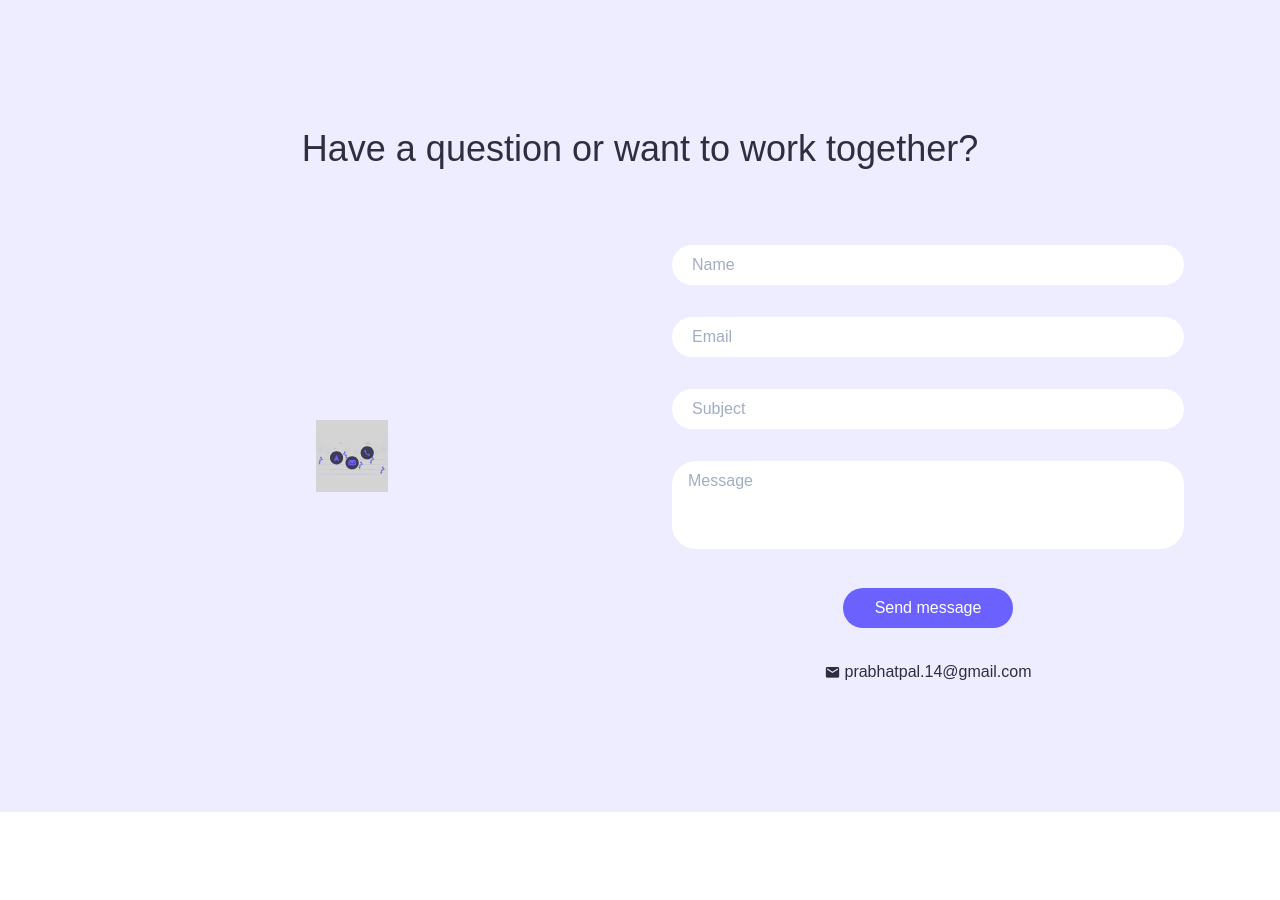
Contact Component › should show thank you message on successful for submission
expect the button "Send message" is shown: met, box top-left (843, 588), bottom-right (1013, 628)
Type "Test Guy" into the field with placeholder "Name". click: coordinates (928, 265)
box: top-left (672, 245), bottom-right (1184, 285)
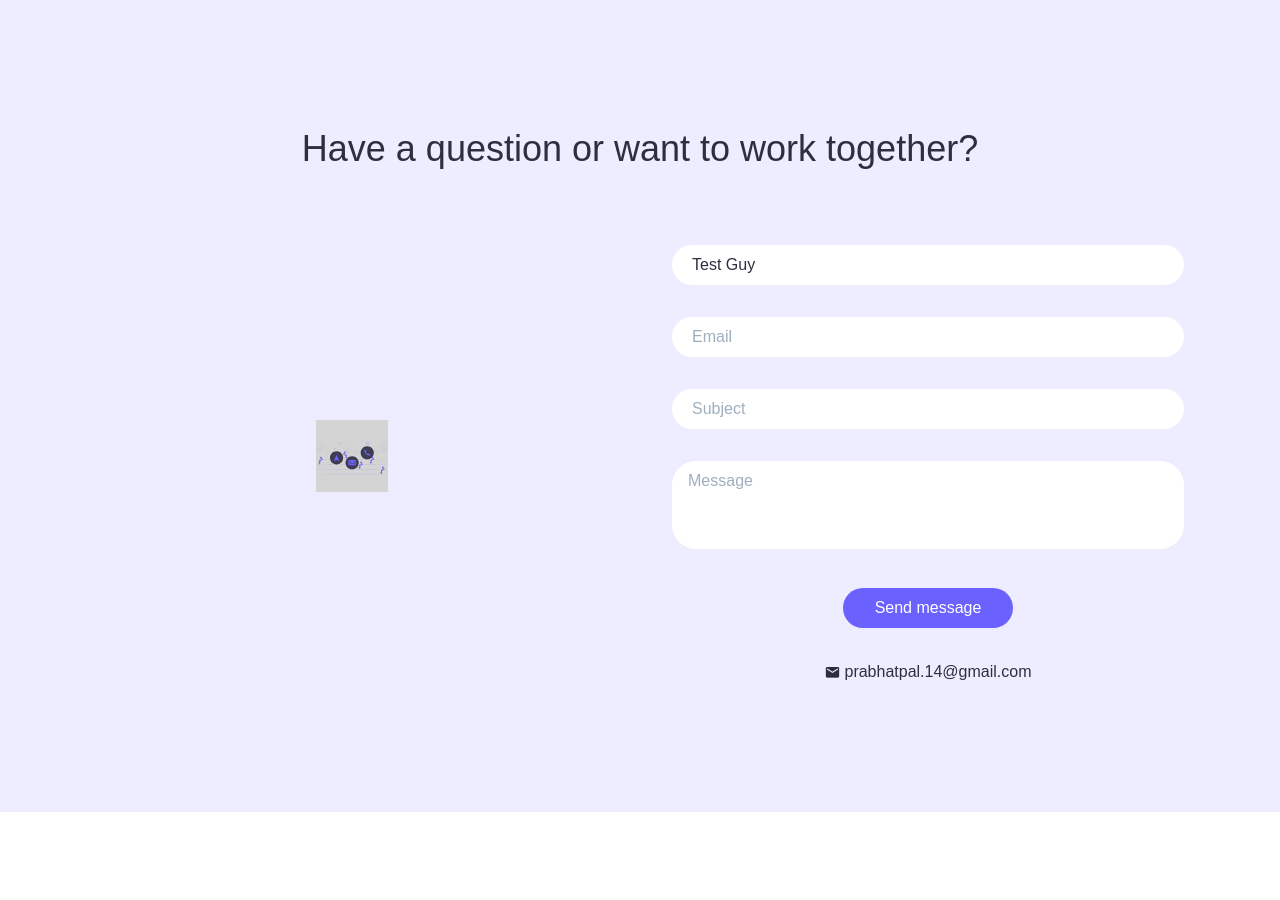
Type "test_guy@email.test" into the field with placeholder "Email". click: coordinates (928, 337)
box: top-left (672, 317), bottom-right (1184, 357)
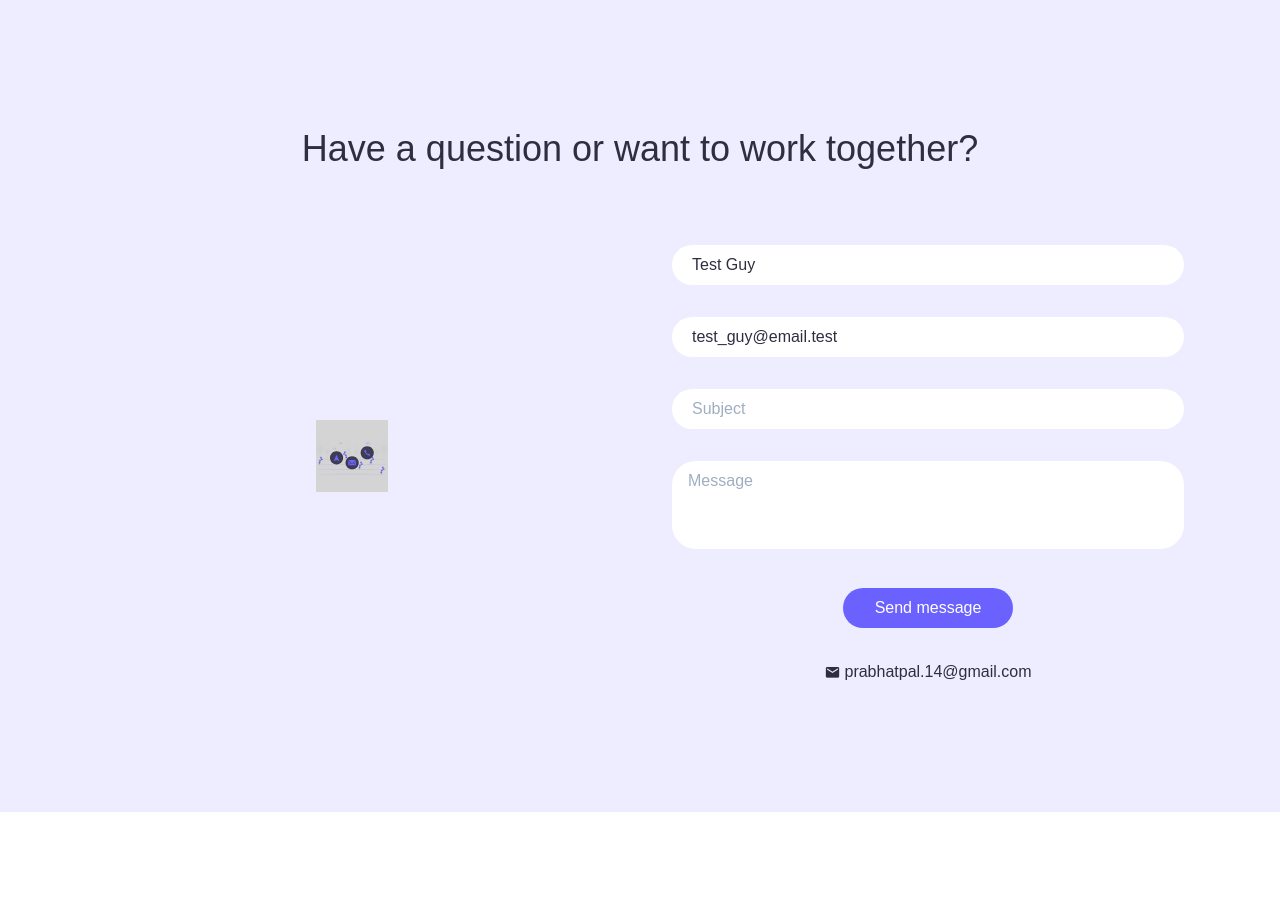
Type "Test subject" into the field with placeholder "Subject". click: coordinates (928, 409)
box: top-left (672, 389), bottom-right (1184, 429)
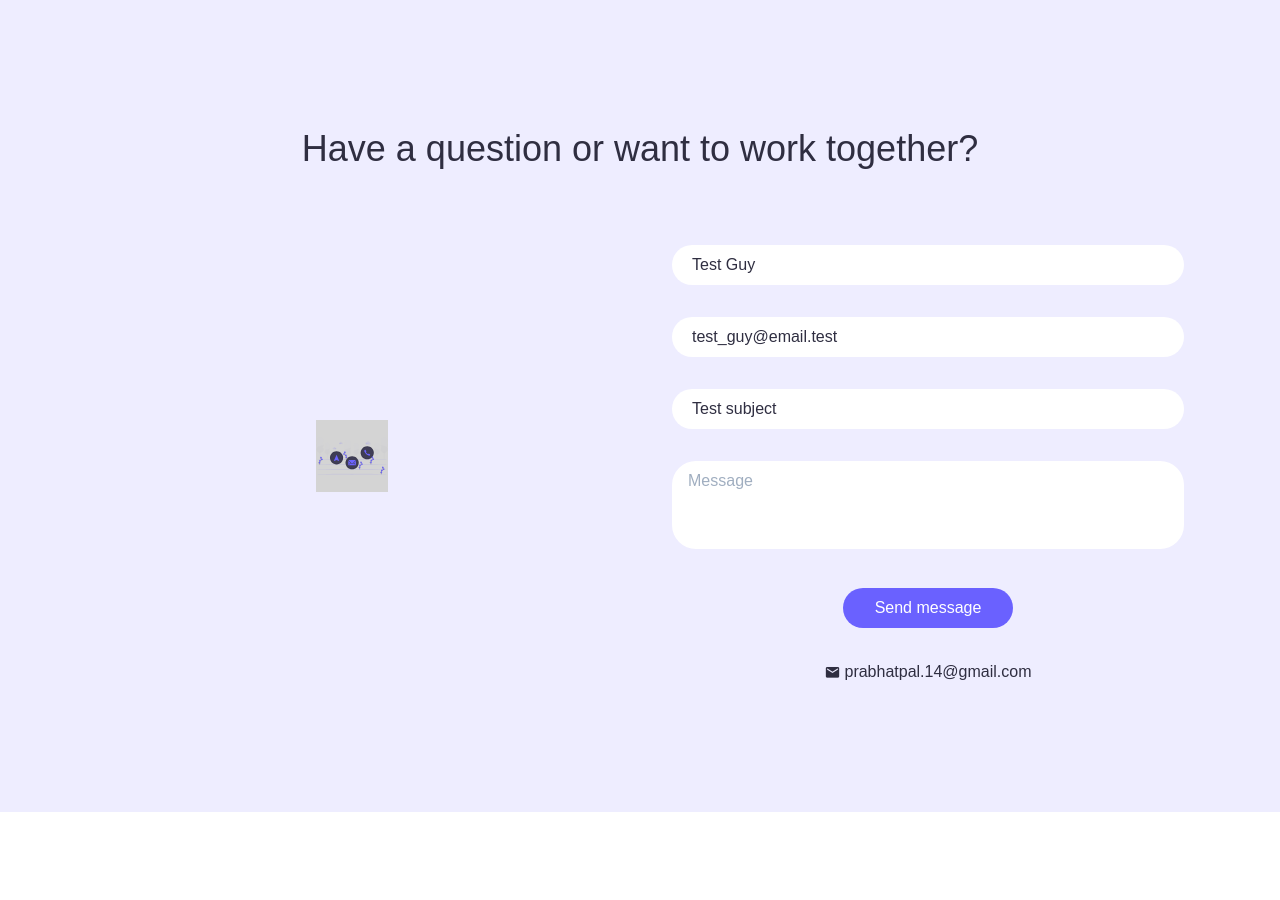
Type "This is a test message" into the text box with placeholder "Message". click: coordinates (928, 505)
box: top-left (672, 461), bottom-right (1184, 549)
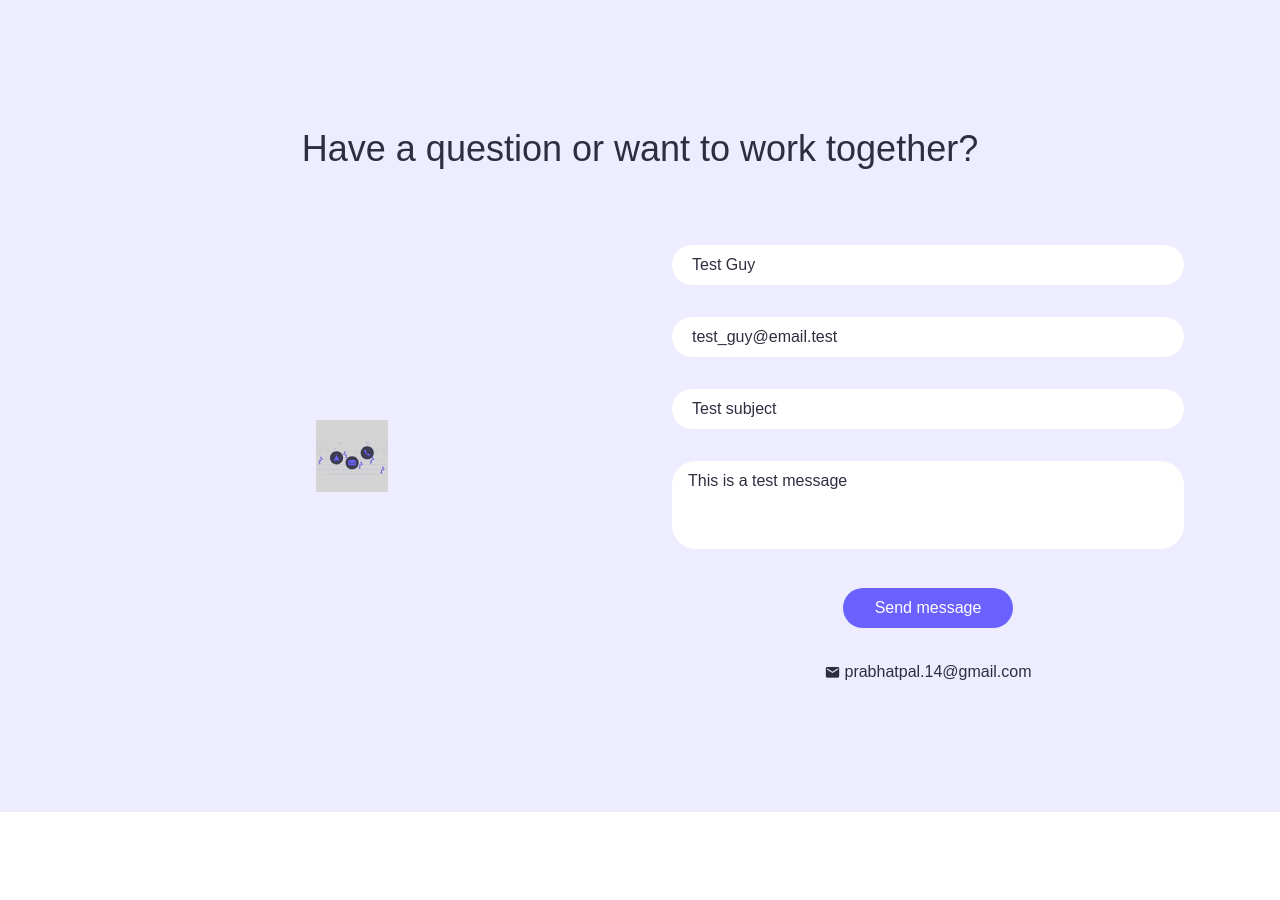
Click the button "Send message". click: coordinates (928, 608)
box: top-left (843, 588), bottom-right (1013, 628)
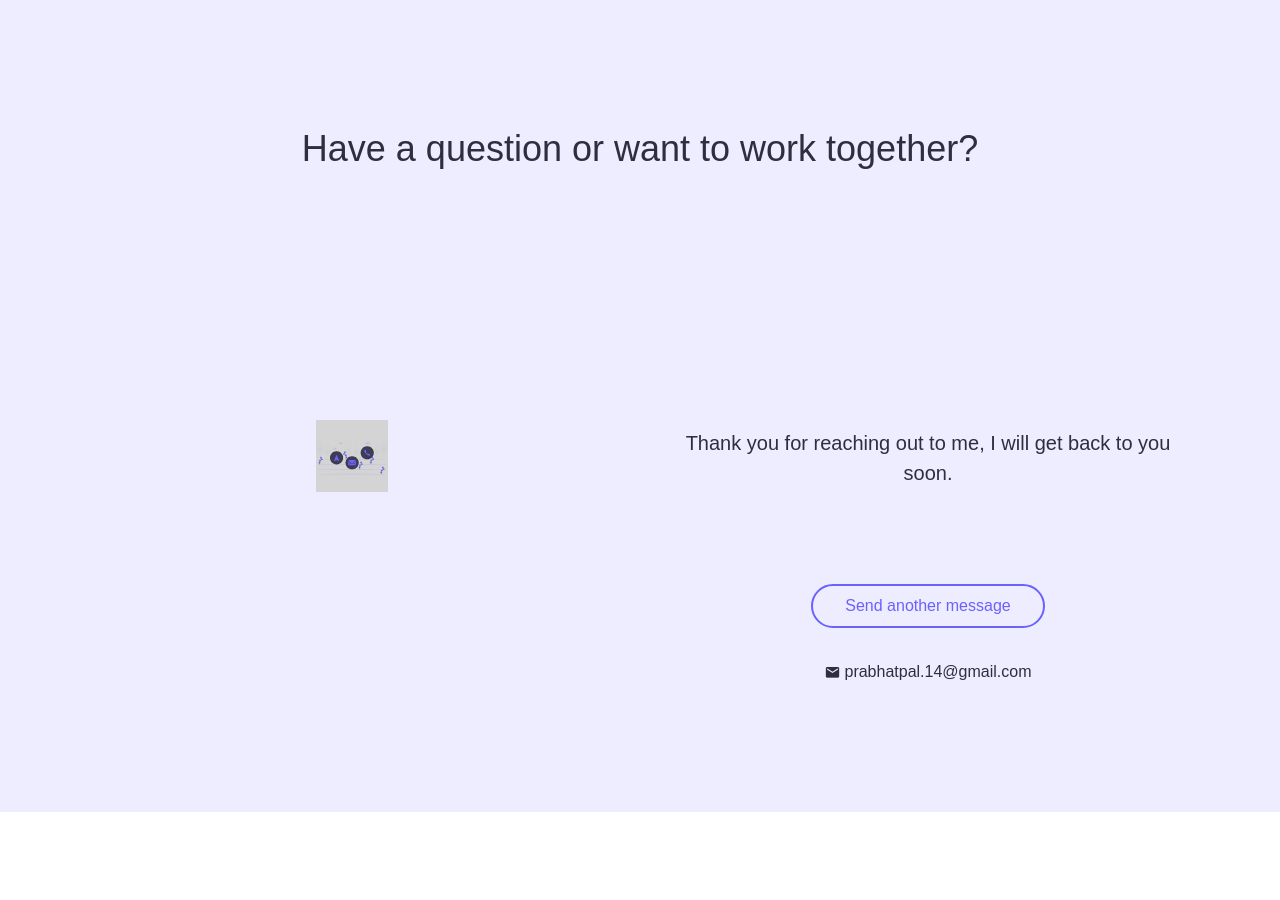
expect the heading "Thank you for reaching out to me, I will get back to you soon." is shown: met, box top-left (672, 428), bottom-right (1184, 488)
